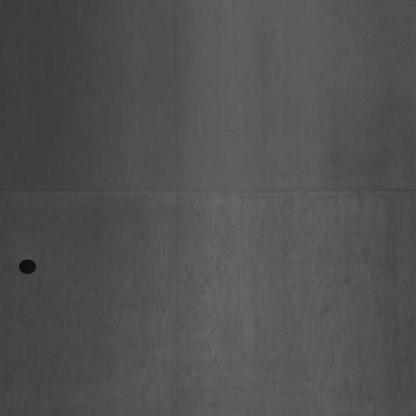punching_hole: (17, 255, 39, 277)
welding_line: (1, 177, 416, 205)
